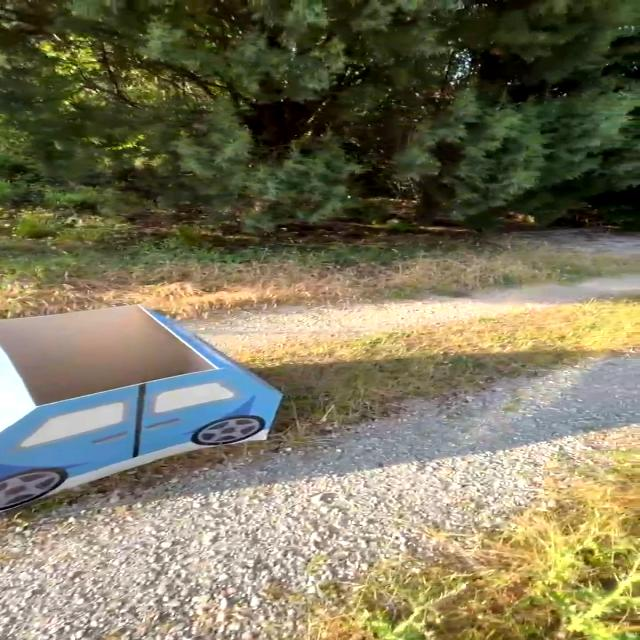blue_car: (0, 251, 327, 527)
